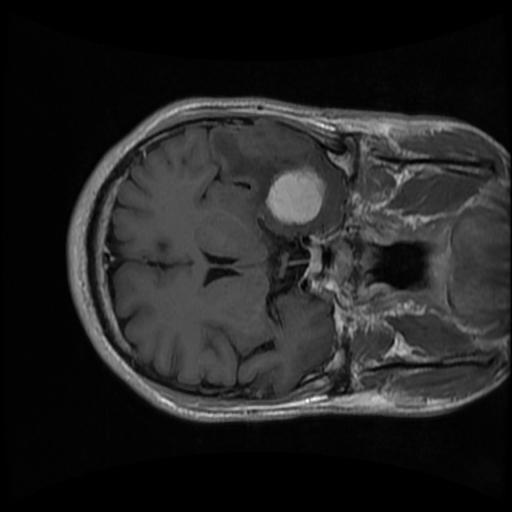meningioma: (264, 166, 329, 224)
